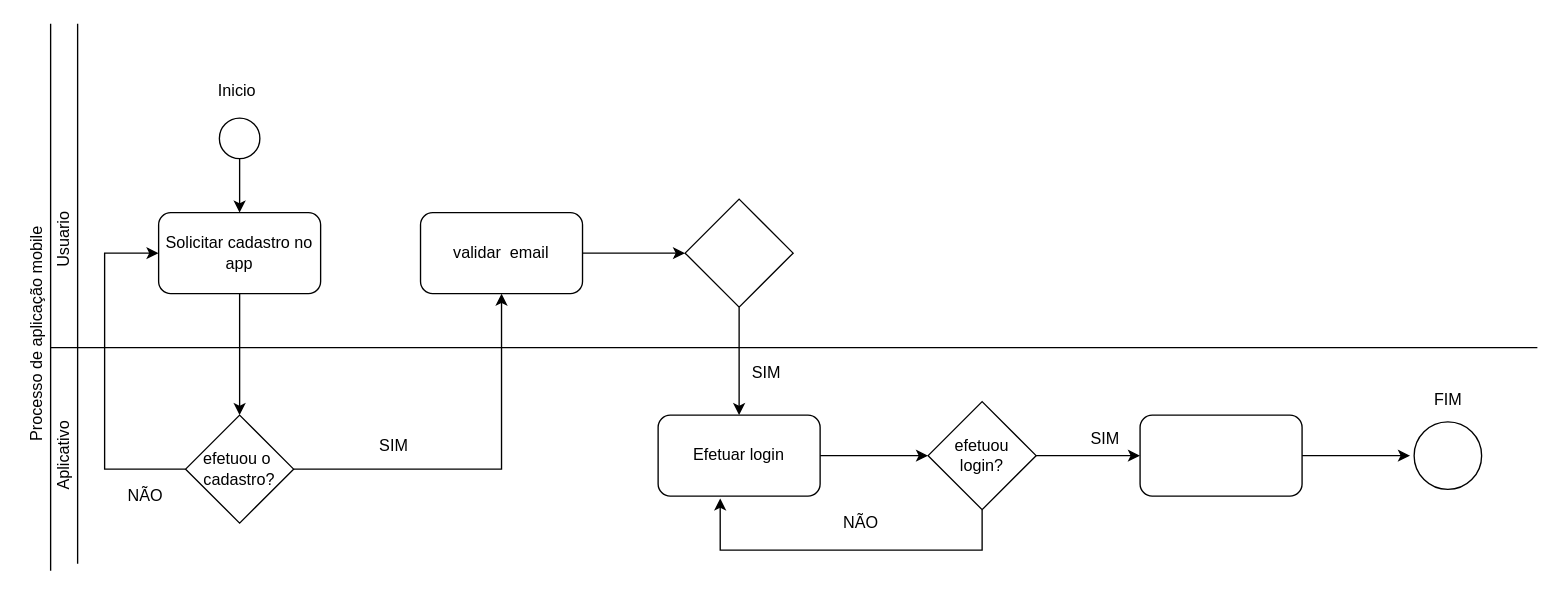
This 1562x597 diagram has some shape labels left out. The centre of each missing label's shape, as x and y in pixels:
redirecionar para inicio do app: point (1220, 455)
validou email?: point (738, 252)
